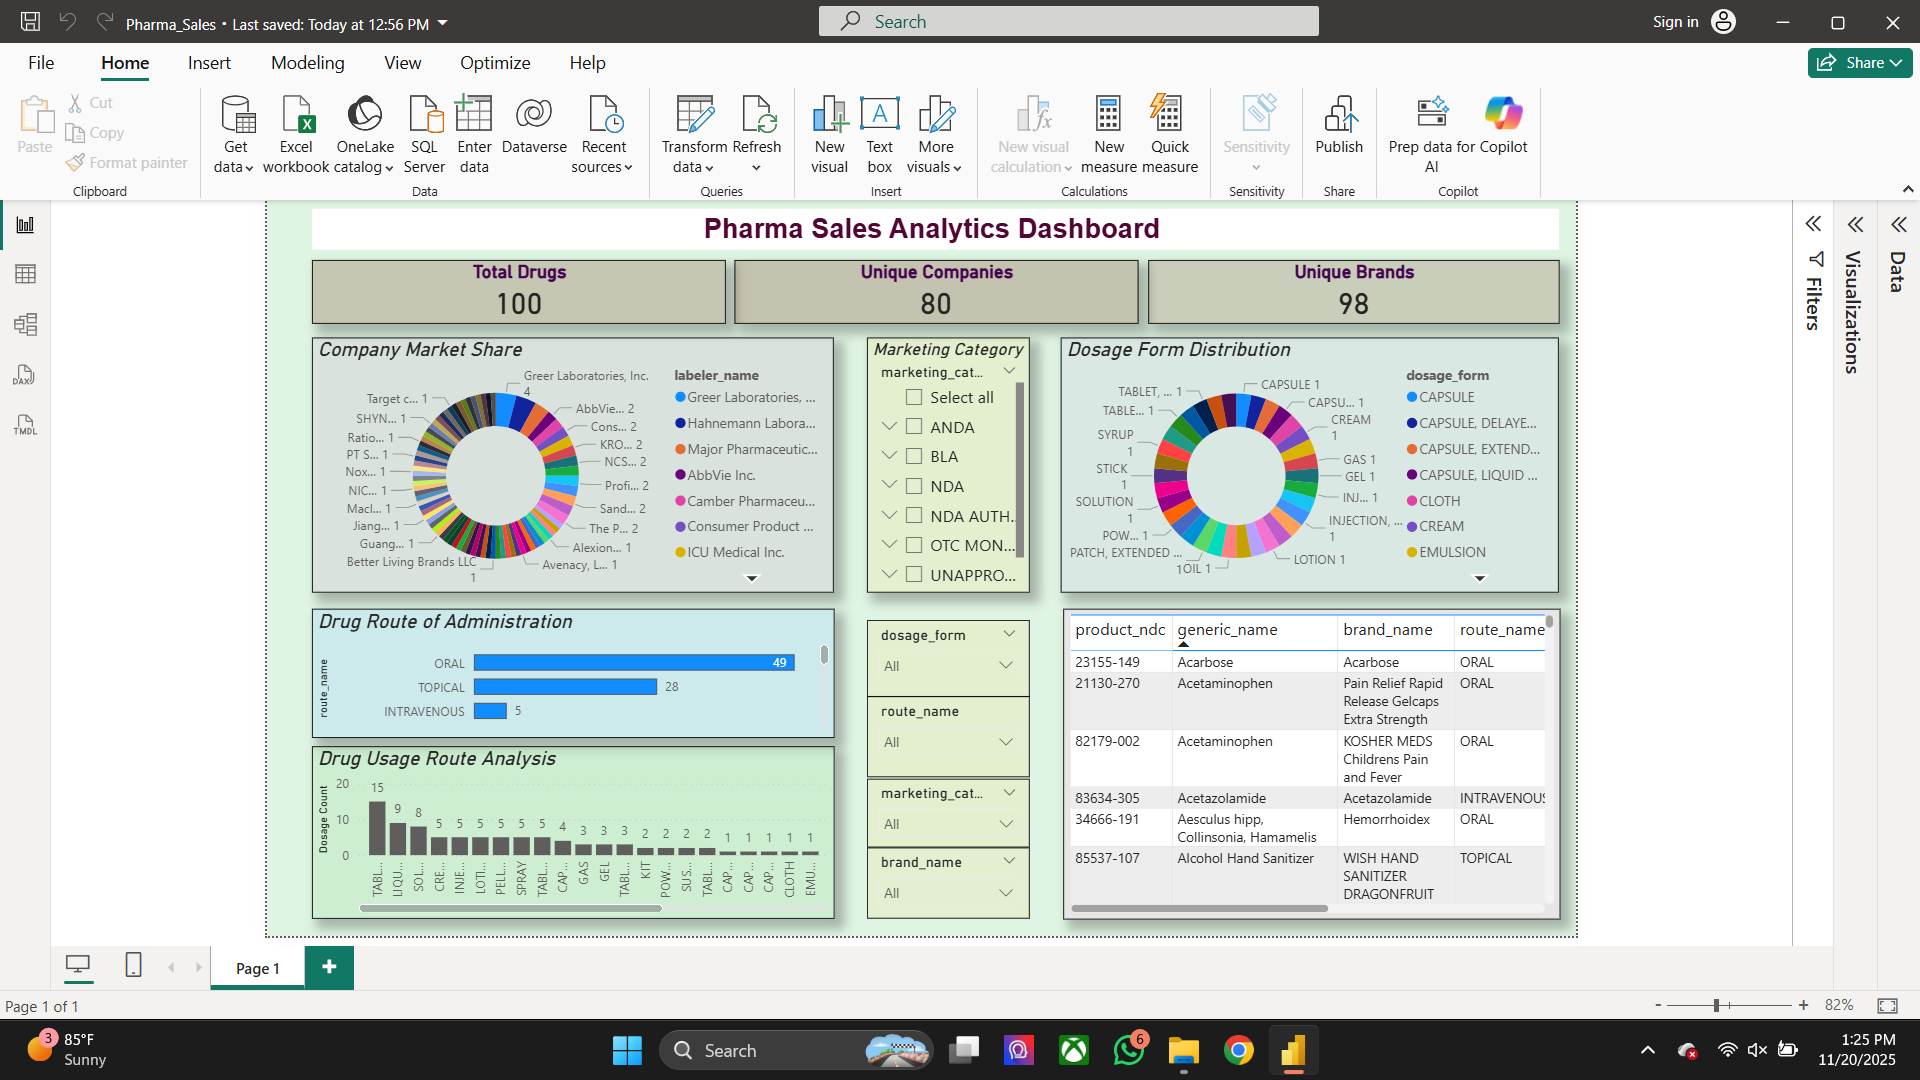

The dashboard page shown, as its layout file describes it:
{"tool":"powerbi","page":{"name":"Page 1","canvas":[1280,720],"ordinal":0},"visuals":[{"type":"card","title":"Total Drugs","fields":{"Values":["Count(drug.product_ndc)"]},"box":[44,58.7,404.8,62.4],"z":0},{"type":"card","title":"Unique Companies","fields":{"Values":["Count(drug.labeler_name)"]},"box":[457.3,58.7,395,62.4],"z":1000},{"type":"card","title":"Unique Brands","fields":{"Values":["Count(drug.brand_name)"]},"box":[862.1,58.7,402.3,62.4],"z":2000},{"type":"donutChart","title":"Company Market Share","fields":{"Category":["fact_company.labeler_name"],"Y":["Sum(fact_company.count)"]},"box":[43.9,134.5,510.5,249.7],"z":3000},{"type":"donutChart","title":"Dosage Form Distribution","fields":{"Category":["fact_dosage.dosage_form"],"Y":["CountNonNull(fact_dosage.count)"]},"box":[776.7,134.5,487.1,249.7],"z":4000},{"type":"clusteredBarChart","title":"Drug Route of Administration","fields":{"Category":["fact_route_name.route_name"],"Y":["Sum(fact_route_name.count)"]},"box":[43.4,399.3,511.5,126.7],"z":5000},{"type":"slicer","title":"Marketing Category","fields":{"Values":["drug.marketing_category","fact_marketing_category.count"]},"box":[587.3,134.5,159.2,249.7],"z":6000},{"type":"tableEx","fields":{"Values":["drug.product_ndc","drug.generic_name","drug.brand_name","drug.route_name","drug.marketing_category","drug.product_type"]},"box":[779.4,399.3,486.2,304],"z":7000},{"type":"clusteredColumnChart","title":"Drug Usage Route Analysis","fields":{"Category":["drug.dosage_form"],"Y":["drug.Dosage Count"]},"box":[43.4,534.5,511.5,168.9],"z":8000},{"type":"slicer","fields":{"Values":["drug.dosage_form"]},"box":[587.3,410.3,159.2,75.5],"z":9000},{"type":"slicer","fields":{"Values":["drug.route_name"]},"box":[587.3,485.8,159.2,79.6],"z":10000},{"type":"slicer","fields":{"Values":["drug.marketing_category"]},"box":[587.5,565.8,159.3,67.6],"z":11000},{"type":"slicer","fields":{"Values":["drug.brand_name"]},"box":[587.3,634,159.2,70],"z":12000},{"type":"textbox","box":[44,8.6,1220.4,40.4],"z":13000}]}

Visuals, with their boxes on the page's 1280x720 design canvas (x1, y1, x2, y2). These are canvas units, not pixel positions in the 1920x1080 screenshot, which may show the page scaled, cropped or inside an application window:
"Total Drugs" card: x1=44, y1=59, x2=449, y2=121
"Unique Companies" card: x1=457, y1=59, x2=852, y2=121
"Unique Brands" card: x1=862, y1=59, x2=1264, y2=121
"Company Market Share" donutChart: x1=44, y1=134, x2=554, y2=384
"Dosage Form Distribution" donutChart: x1=777, y1=134, x2=1264, y2=384
"Drug Route of Administration" clusteredBarChart: x1=43, y1=399, x2=555, y2=526
"Marketing Category" slicer: x1=587, y1=134, x2=746, y2=384
tableEx - drug.product_ndc x drug.generic_name: x1=779, y1=399, x2=1266, y2=703
"Drug Usage Route Analysis" clusteredColumnChart: x1=43, y1=534, x2=555, y2=703
slicer - drug.dosage_form: x1=587, y1=410, x2=746, y2=486
slicer - drug.route_name: x1=587, y1=486, x2=746, y2=565
slicer - drug.marketing_category: x1=588, y1=566, x2=747, y2=633
slicer - drug.brand_name: x1=587, y1=634, x2=746, y2=704
textbox: x1=44, y1=9, x2=1264, y2=49
